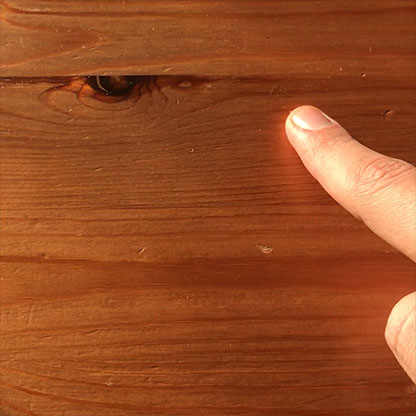fingertip: (270, 92, 344, 155)
